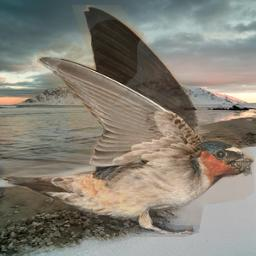Swallow: (0, 5, 254, 237)
